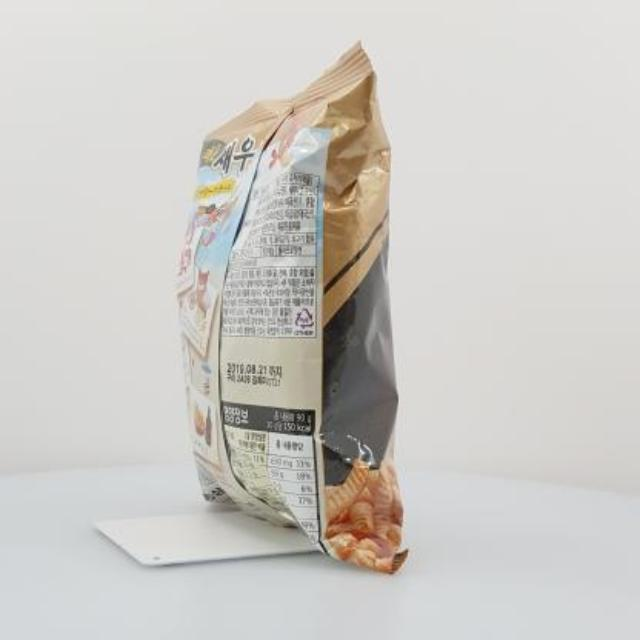snack_bag: (159, 28, 445, 594)
